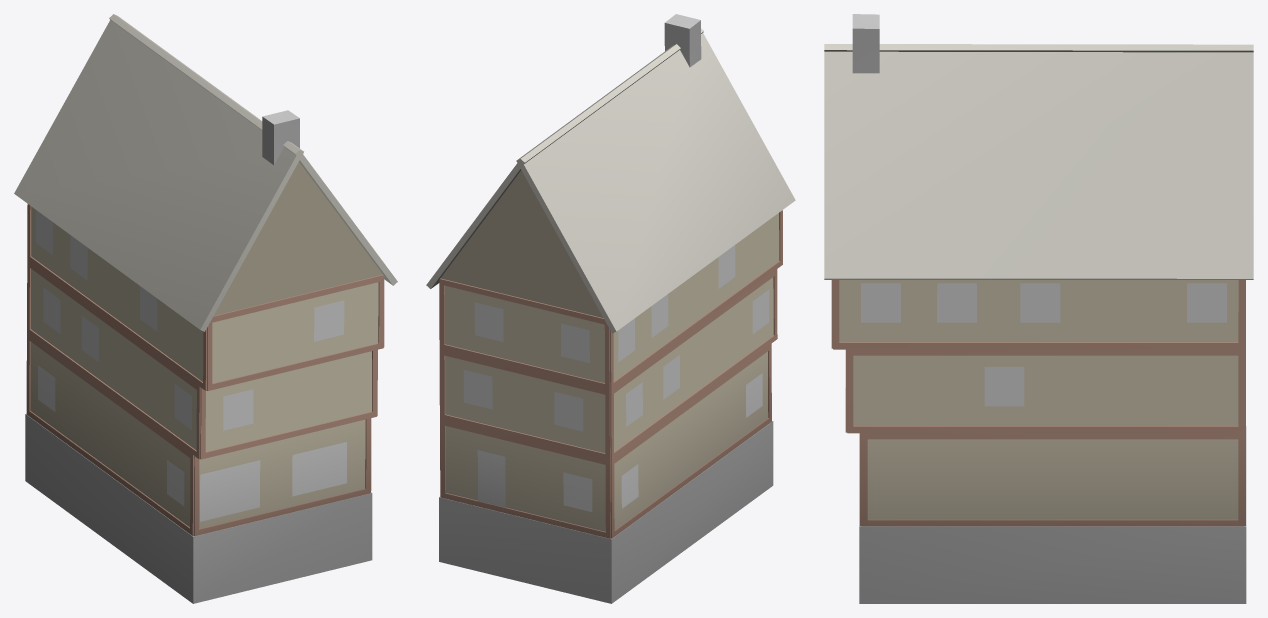
Rendered from townhouse_1.glb.
3 views of the same model, side by side, from view 1: azimuth 30°, elevation 25°; view 2: azimuth 150°, elevation 25°; view 3: azimuth 270°, elevation 25° (orthographic). The views are drawn at different scales.
Visible parts, largest first — view 1: townhouse_1; view 2: townhouse_1; view 3: townhouse_1.
Boxes of the visible parts, x1=… form: townhouse_1: x1=14, y1=14, x2=397, y2=603; townhouse_1: x1=426, y1=14, x2=795, y2=603; townhouse_1: x1=824, y1=14, x2=1253, y2=603.
Size of the model in its own units: 7.25 by 16.2 by 11.83.
